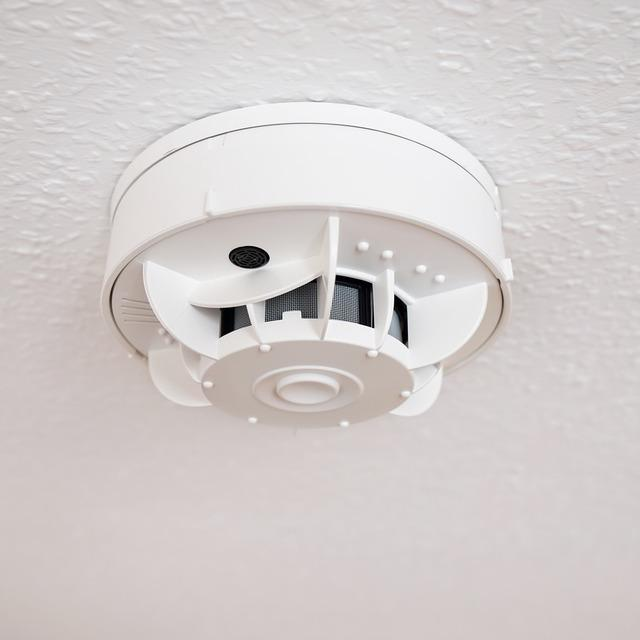Smoke-Detector: (85, 97, 527, 435)
